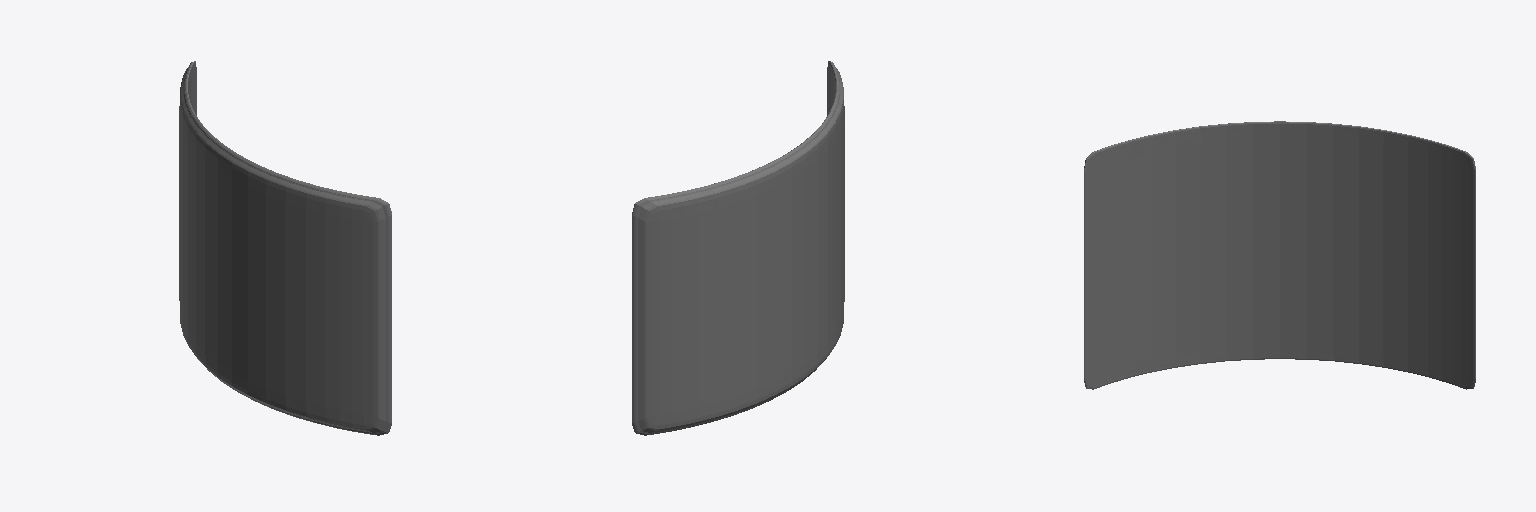
Rendered from out_curve_wall.obj.
The picture shows the model from 3 angles: view 1: azimuth 30°, elevation 25°; view 2: azimuth 150°, elevation 25°; view 3: azimuth 270°, elevation 25°; orthographic projection.
Parts seen in each view (by area): view 1: polySurface2 basic_wall:pCube1; view 2: polySurface2 basic_wall:pCube1; view 3: polySurface2 basic_wall:pCube1.
Boxes of the visible parts, box(x1,y1,x2,y2) form: polySurface2 basic_wall:pCube1: box(179, 61, 391, 435); polySurface2 basic_wall:pCube1: box(632, 61, 844, 435); polySurface2 basic_wall:pCube1: box(1084, 121, 1475, 389).
Bounding box in the file's own units: 11.64 × 34.39 × 51.55.